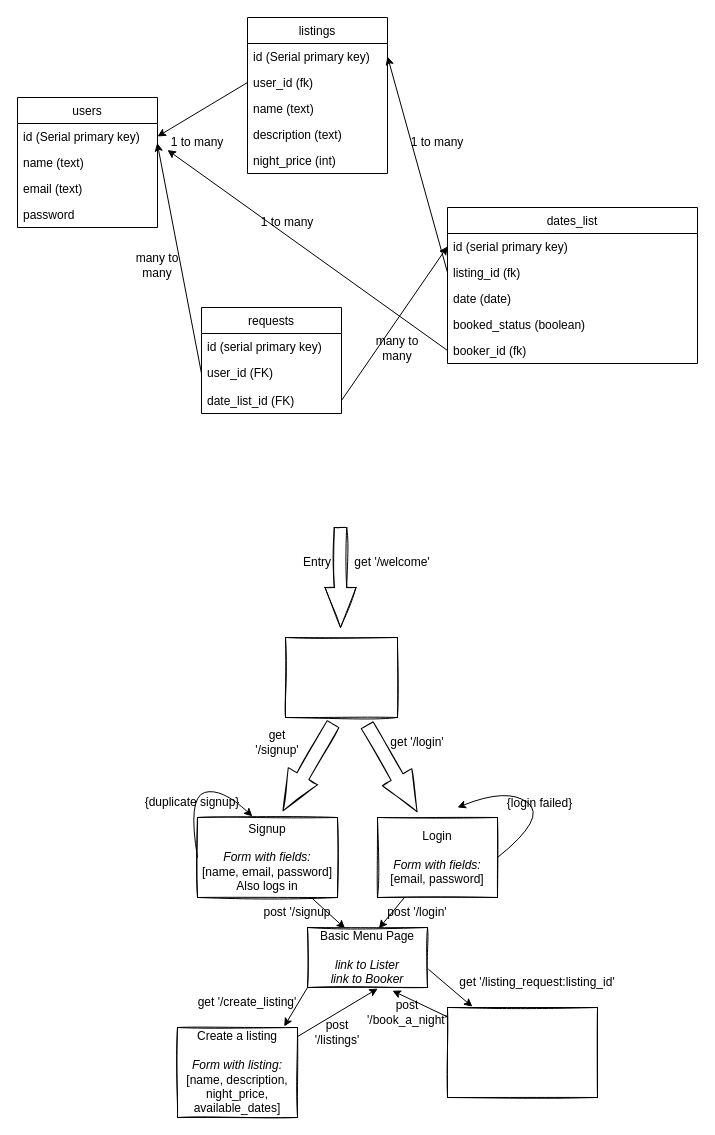
Image size: 715x1135. Some labels were removed from this diagram. The centre of each missing label's shape, as x and y in pixels:
"Request to book a night Shows listing and dates Button to book a night" belongs at point 522,1052.
"welcome page Link to signup Link to login" belongs at point 341,677.
